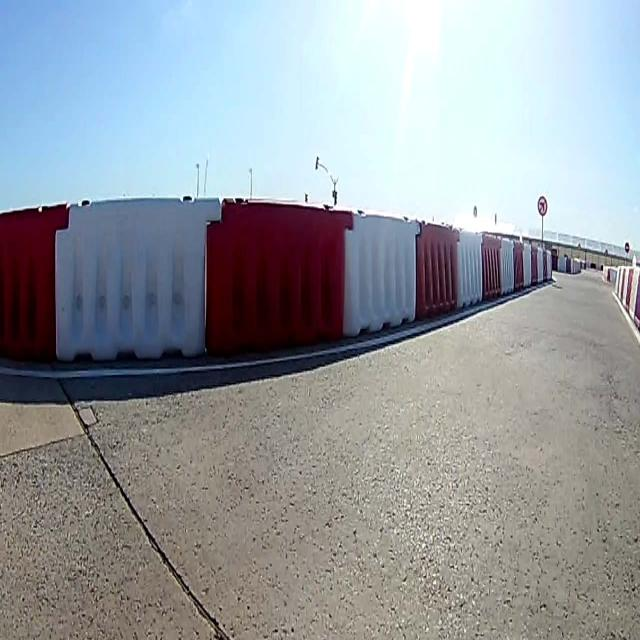soladonulmez: (538, 193, 548, 215)
